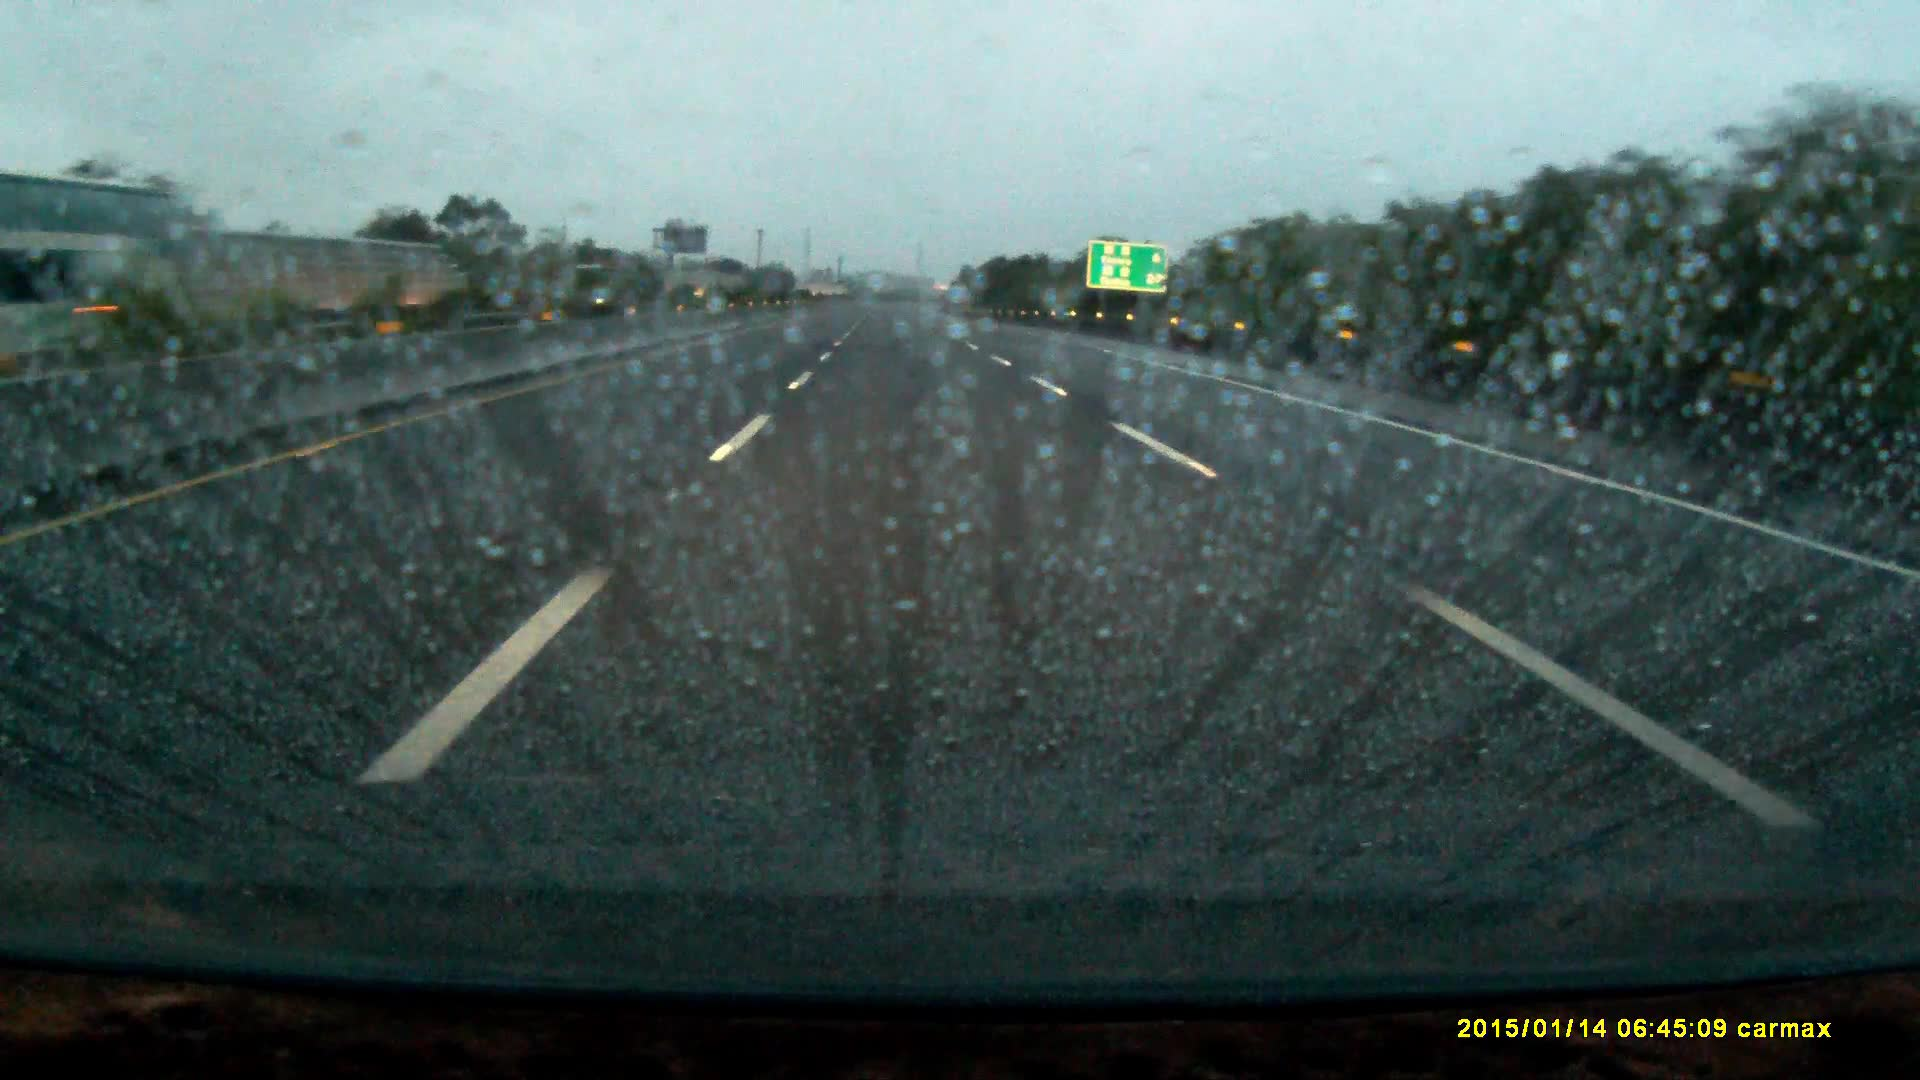vehicle: (1, 170, 195, 356), (566, 264, 644, 309)
